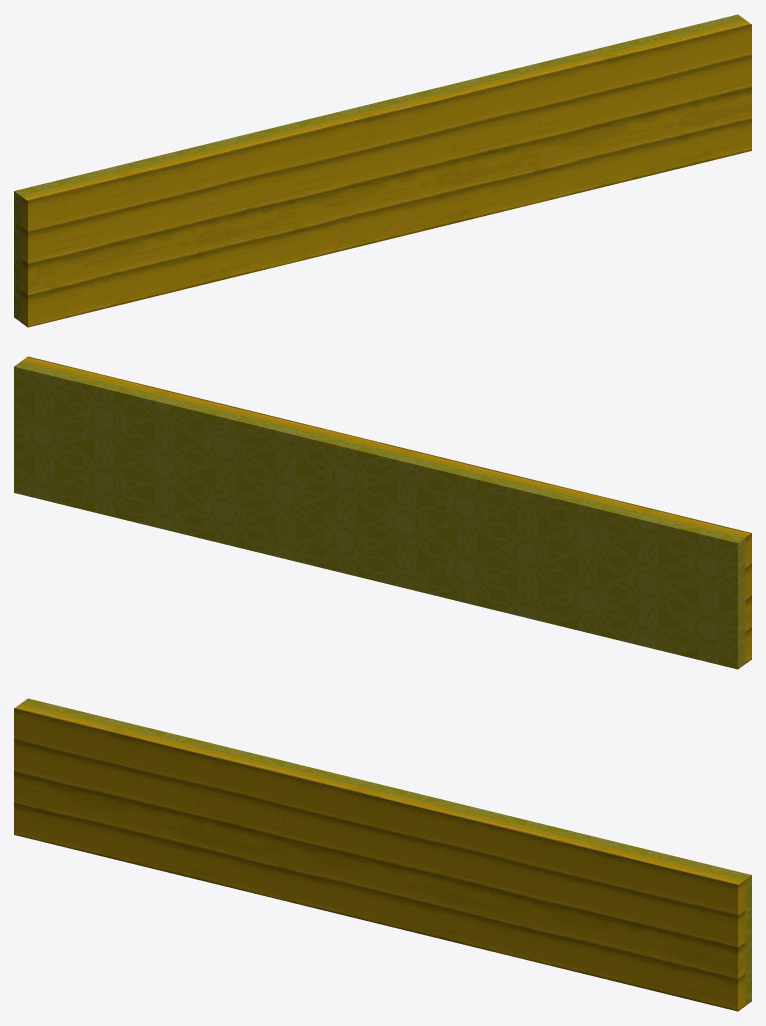
The model's file is SM_building_wall_28.glb.
The picture shows the model from 3 angles, top to bottom: view 1: azimuth 30°, elevation 25°; view 2: azimuth 150°, elevation 25°; view 3: azimuth 330°, elevation 25°; orthographic projection.
Visible parts, largest first — view 1: SM_building_wall_28; view 2: SM_building_wall_28; view 3: SM_building_wall_28.
Boxes of the visible parts, bbox=[...] form: SM_building_wall_28: bbox=[14, 14, 751, 327]; SM_building_wall_28: bbox=[14, 356, 751, 669]; SM_building_wall_28: bbox=[14, 698, 751, 1011].
Size of the model in its own units: 6 by 1 by 0.2.
Materials: 2 (2 with a texture image).
